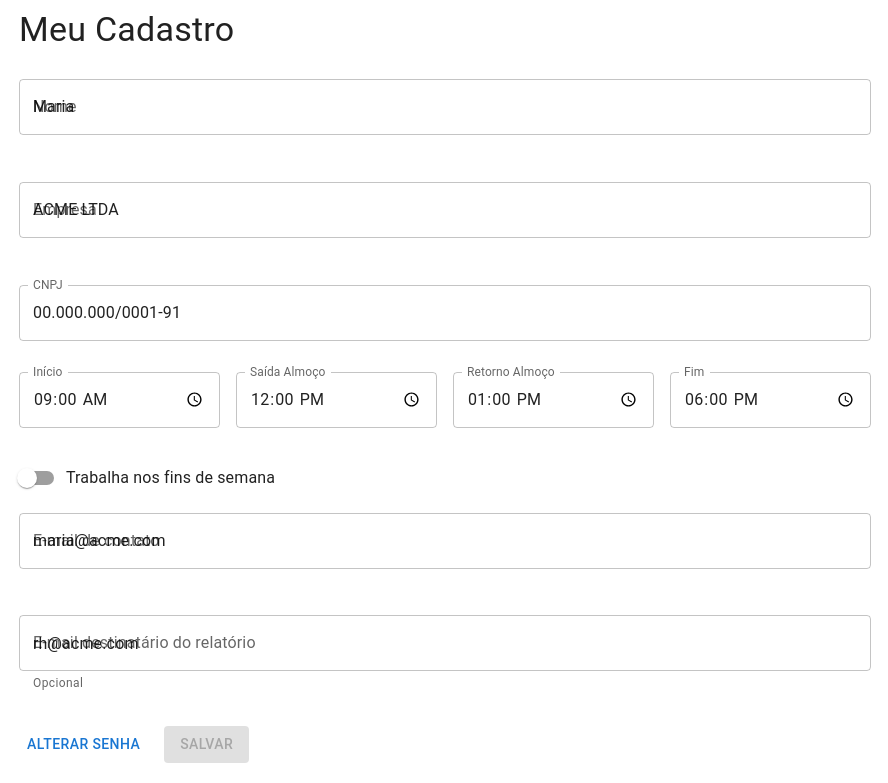
it: CadastroPage › CNPJ inválido client-side exibe helper text e bloqueia Salvar
Replace the text in the field labelled "CNPJ" with "00.000.000/0000-99". click: point(445, 313)
box: [19,285,871,341]
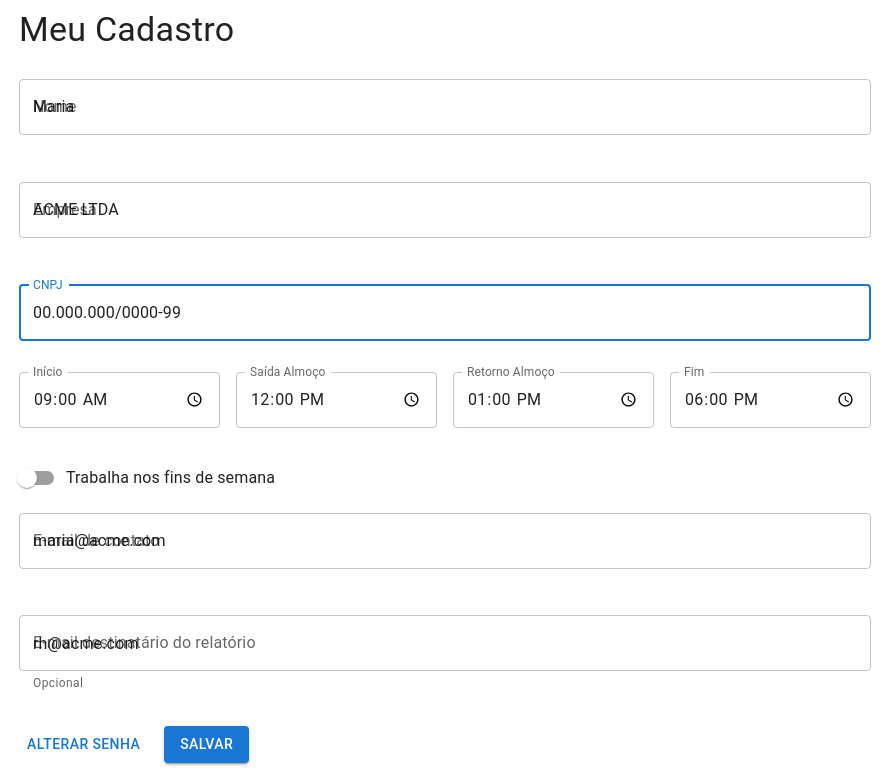
Press Tab
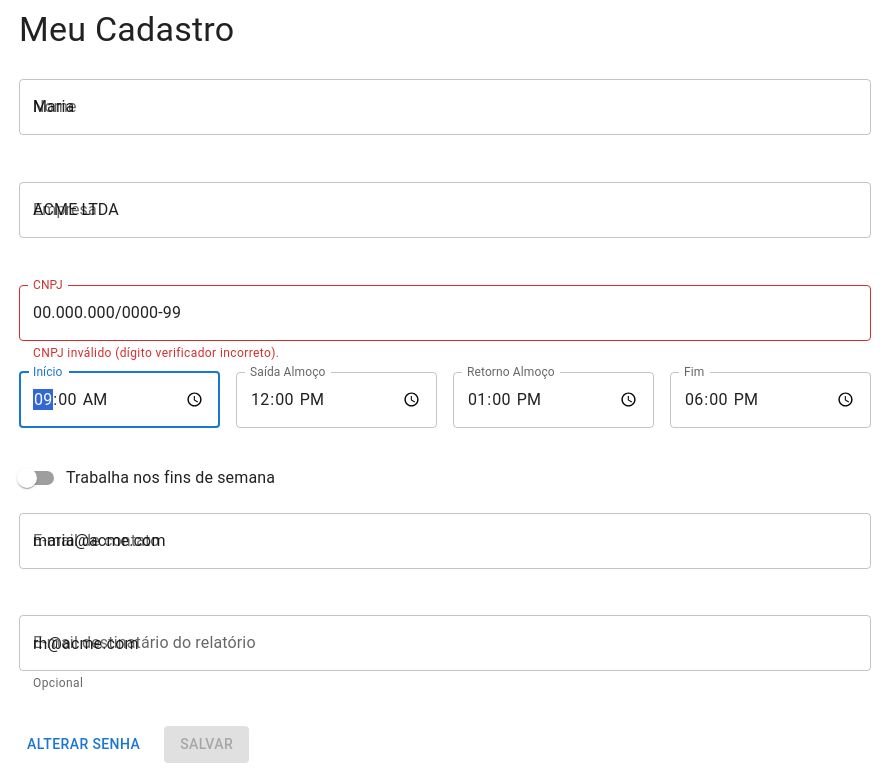
Check: the text "CNPJ inválido (dígito verificador incorreto)." is shown, box [33,346,279,360]
Check: the button "Salvar" is disabled, box [164,726,249,763]
